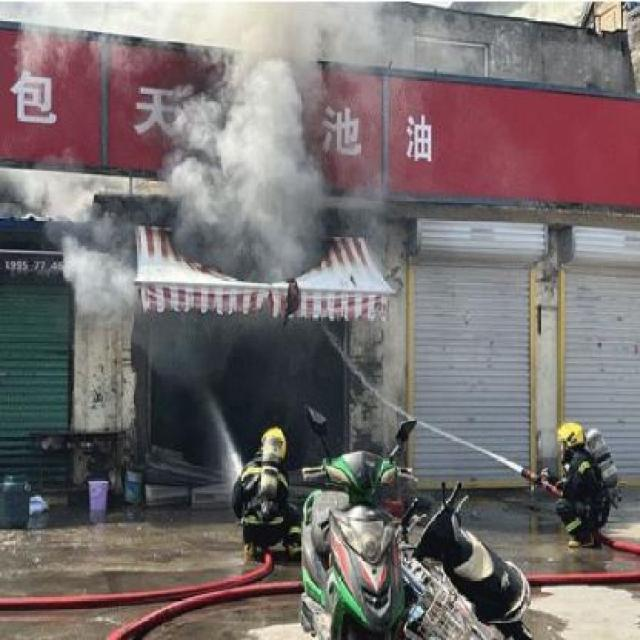Smoke: (180, 9, 328, 288), (34, 157, 138, 316)
